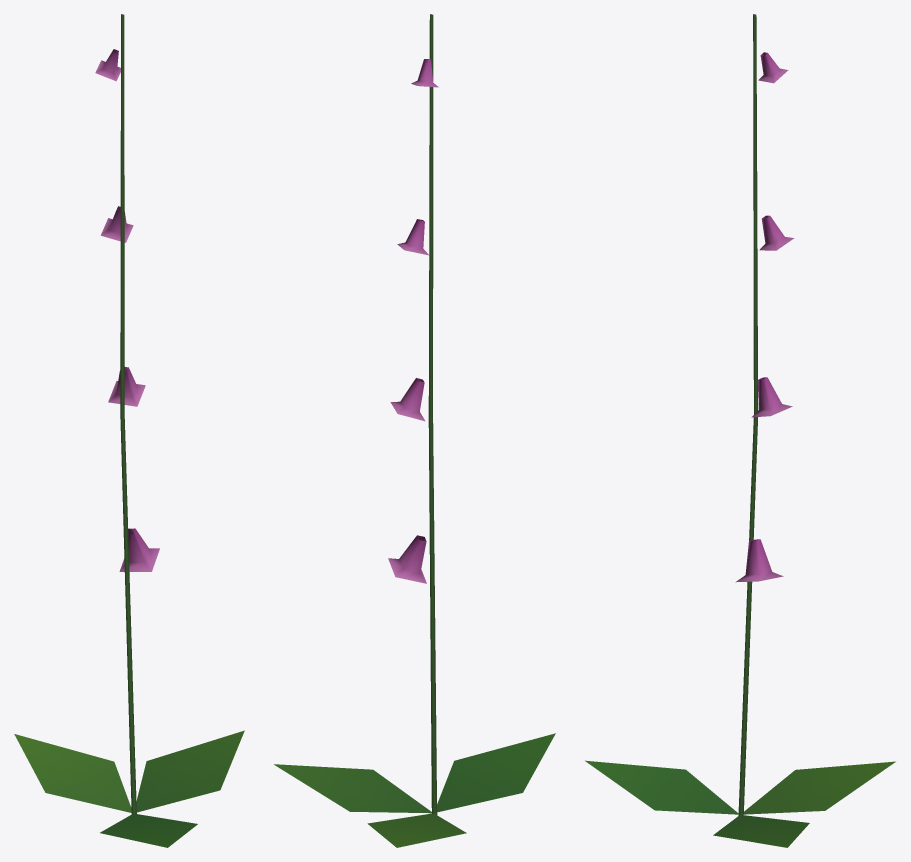
File: flower-foxglove-a.lod2.glb
3 views of the same model, side by side, from view 1: azimuth 30°, elevation 25°; view 2: azimuth 150°, elevation 25°; view 3: azimuth 270°, elevation 25° (orthographic).
Parts seen in each view (by area): view 1: flower-foxglove-a.lod2; view 2: flower-foxglove-a.lod2; view 3: flower-foxglove-a.lod2.
Part boxes in pixels (x1,y1,x2,y2): flower-foxglove-a.lod2: [14, 14, 244, 847]; flower-foxglove-a.lod2: [274, 14, 555, 847]; flower-foxglove-a.lod2: [585, 14, 895, 847].
Bounding box in the file's own units: 0.291 × 1.13 × 0.3992.
